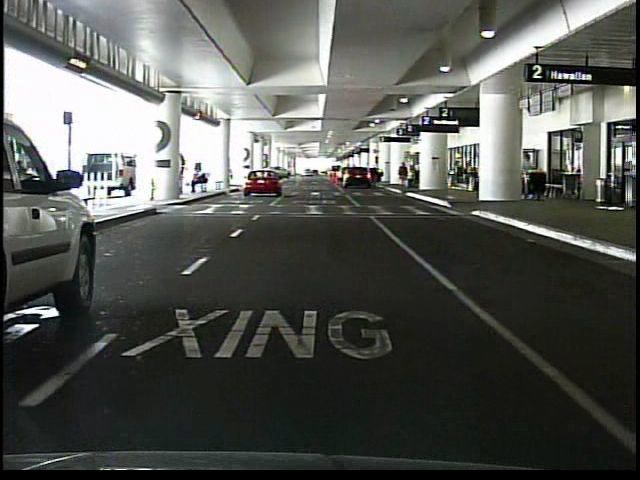person: (520, 149, 537, 196), (194, 166, 213, 196), (400, 162, 413, 192), (453, 162, 465, 189)
